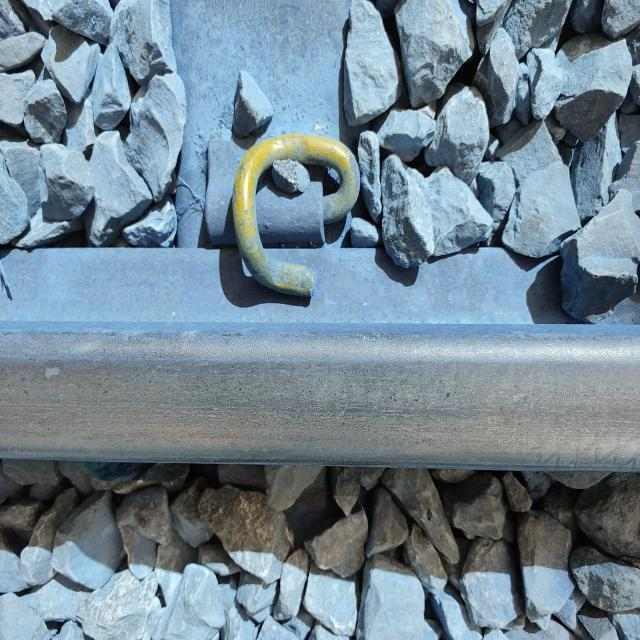Good Fasteners: (204, 133, 360, 296)
